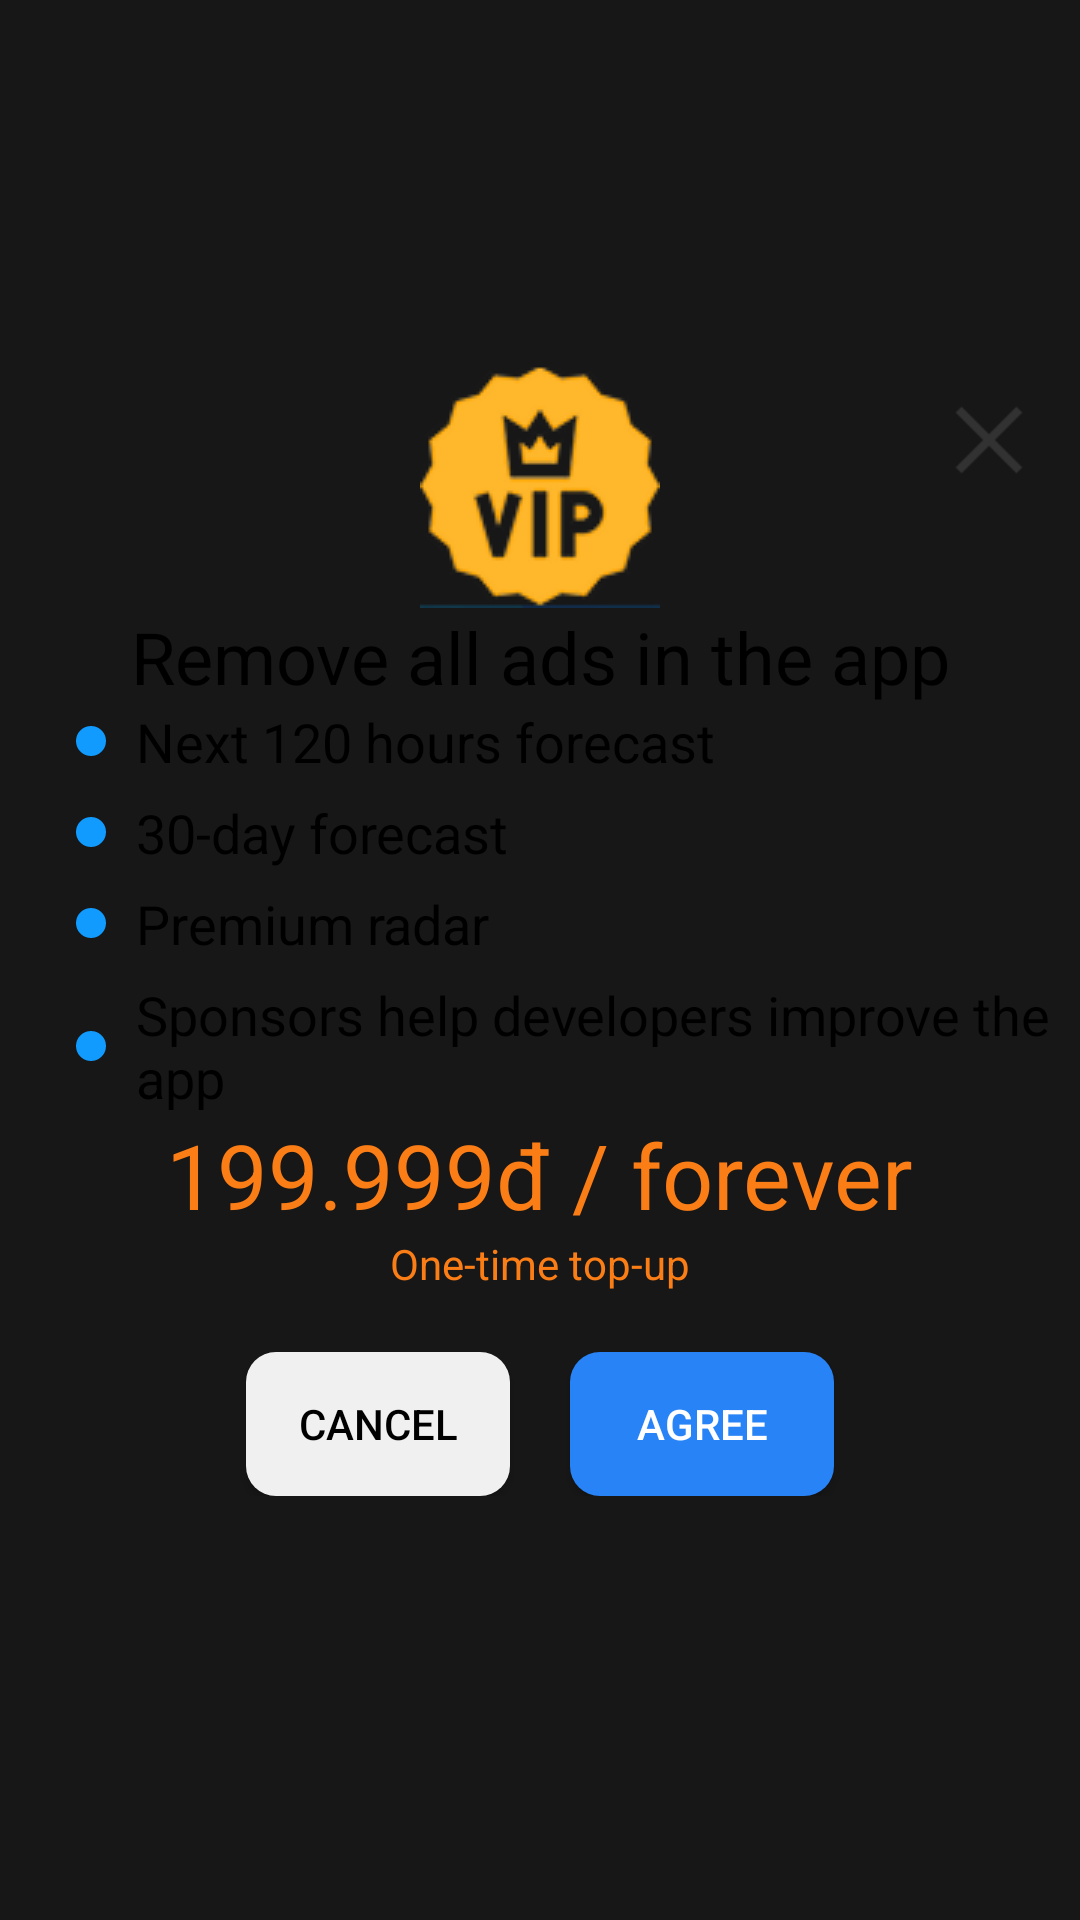

Screen size 1080px x 1920px. Icon name, then its center in pixels as point (x, y):
close: point (989, 440)
